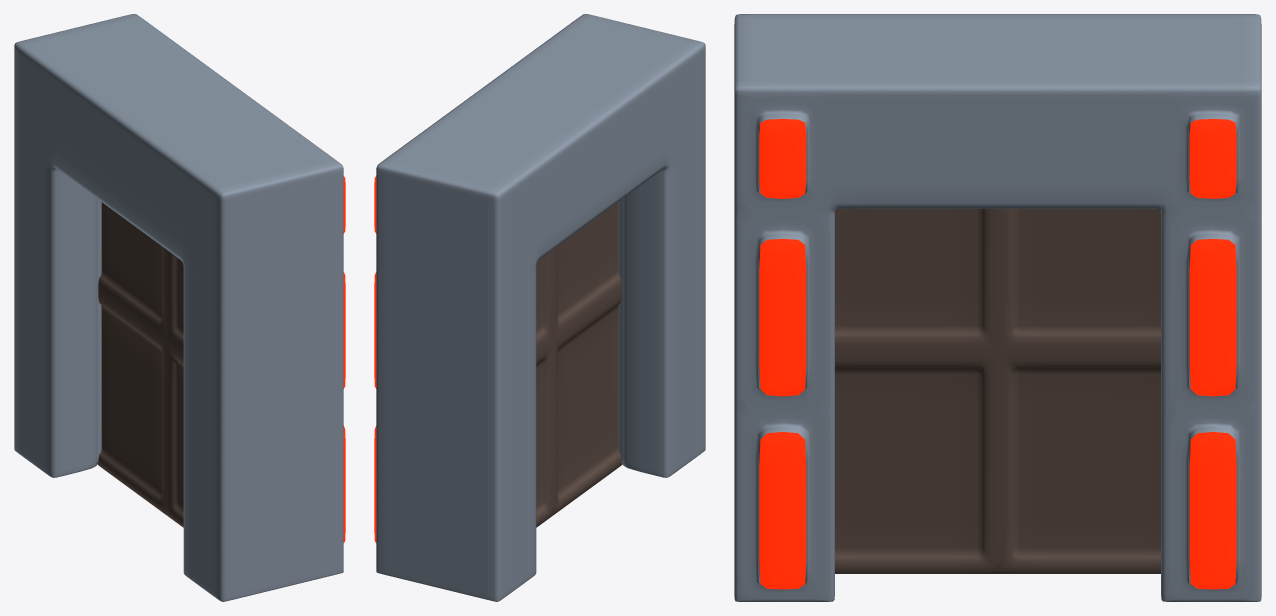
The model's file is SleuceGate.fbx.
The picture shows the model from 3 angles, left to right: view 1: azimuth 30°, elevation 25°; view 2: azimuth 150°, elevation 25°; view 3: azimuth 270°, elevation 25°; orthographic projection. The views are drawn at different scales.
Parts seen in each view (by area): view 1: Cube, Plane; view 2: Cube, Plane; view 3: Cube, Plane.
Part boxes in pixels (<box>): Cube: <box>14,14,345,601</box>; Plane: <box>97,202,183,527</box>; Cube: <box>374,14,705,601</box>; Plane: <box>536,202,622,527</box>; Cube: <box>734,14,1261,601</box>; Plane: <box>835,208,1160,573</box>.
Bounding box in the file's own units: 955 × 2710 × 2495.
